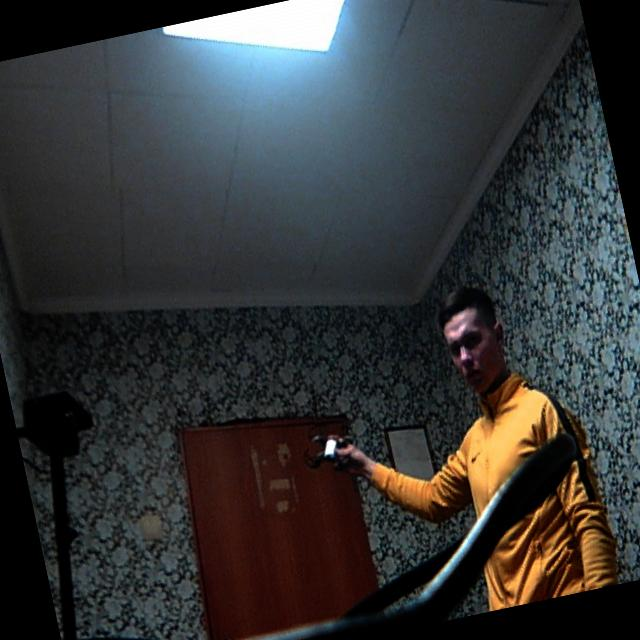drone: (291, 398, 373, 496)
